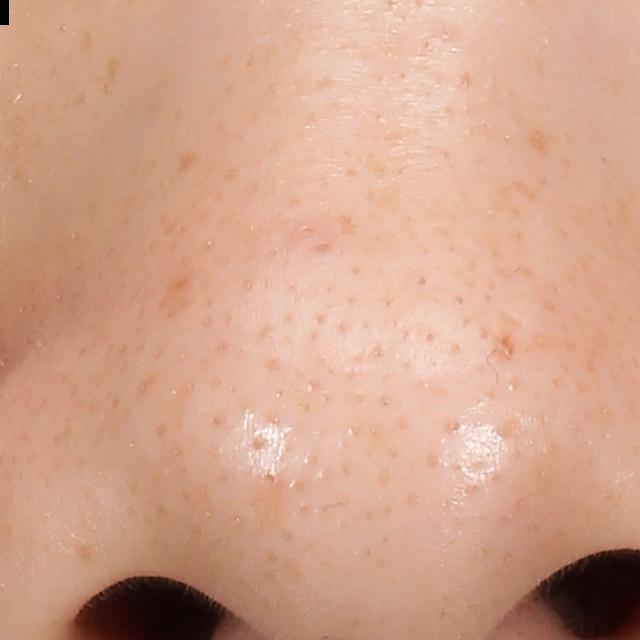comedo: (260, 467, 283, 493)
melasma: (146, 264, 195, 323), (527, 120, 555, 164), (103, 54, 128, 89), (174, 151, 205, 179), (75, 26, 97, 58)
